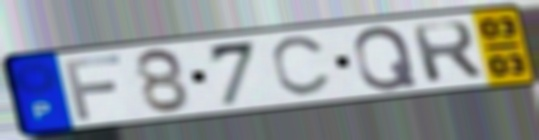7: (203, 40, 262, 108)
8: (133, 46, 192, 117)
C: (268, 33, 335, 100)
F: (60, 52, 126, 123)
Q: (351, 24, 421, 93)
R: (408, 18, 487, 85)
